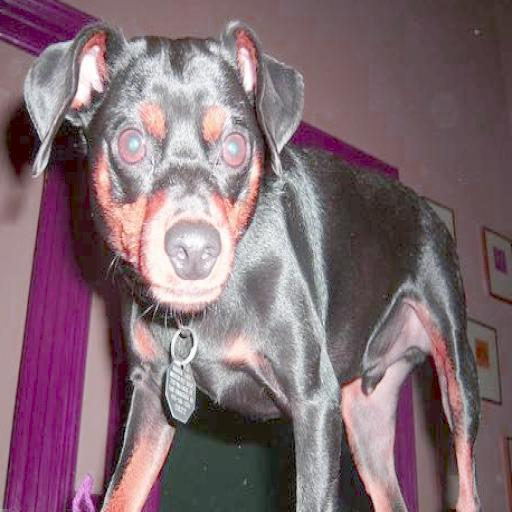dog_face: (27, 12, 294, 313)
